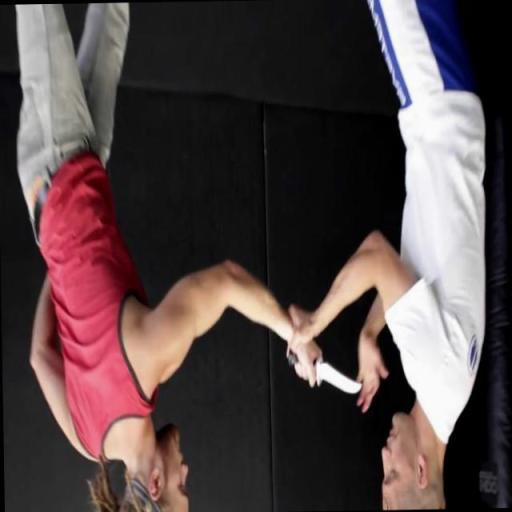knife: (284, 347, 366, 411)
